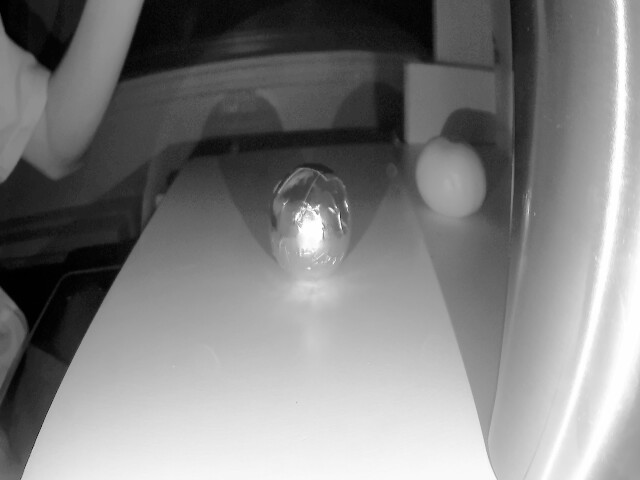silver: (263, 161, 356, 277)
